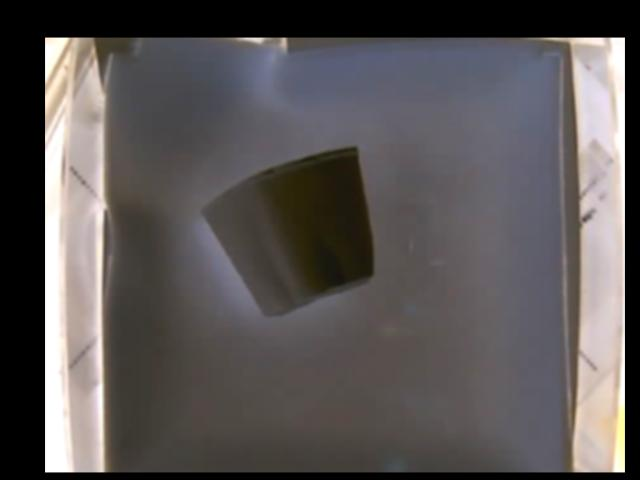Cup: (203, 147, 376, 320)
